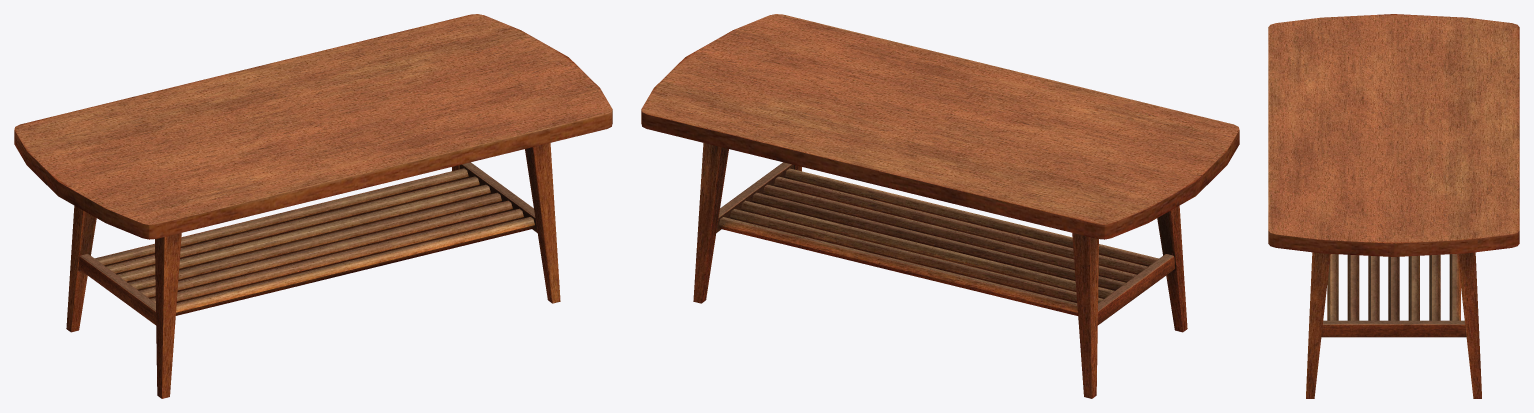
Rendered from Table.fbx.
The picture shows the model from 3 angles, left to right: view 1: azimuth 30°, elevation 25°; view 2: azimuth 150°, elevation 25°; view 3: azimuth 270°, elevation 25°; orthographic projection. The views are drawn at different scales.
Parts seen in each view (by area): view 1: Cube; view 2: Cube; view 3: Cube.
Boxes of the visible parts, x1,y1,x2,y2 form: Cube: (14, 14, 612, 398); Cube: (641, 14, 1239, 398); Cube: (1268, 14, 1519, 398).
Size of the model in its own units: 283 by 104 by 131.
1 material, 1 textured.
